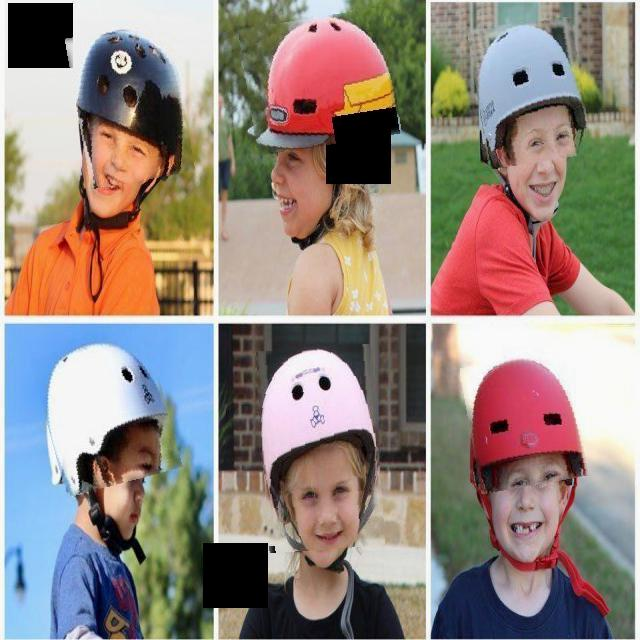helmet: (259, 346, 381, 552), (242, 13, 398, 151), (38, 334, 174, 492), (71, 24, 189, 185), (473, 20, 588, 166), (465, 354, 584, 490)
